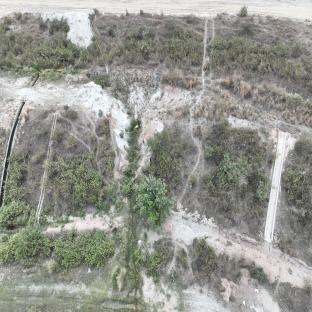slope_drain: (207, 131, 270, 218), (33, 113, 59, 224), (0, 101, 25, 206), (264, 131, 287, 243)
vegetation: (0, 226, 115, 267), (133, 173, 173, 230), (0, 199, 32, 227)
